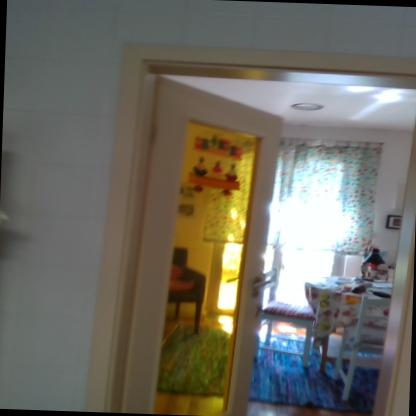semi: (108, 27, 398, 415)
